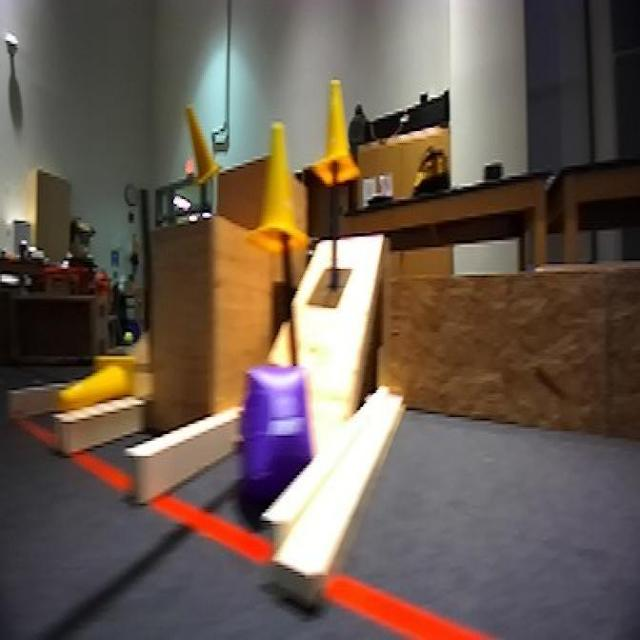frc_cone: (252, 129, 308, 252), (56, 352, 139, 419), (313, 78, 358, 188), (181, 102, 218, 187)
frc_cube: (237, 359, 317, 506)
